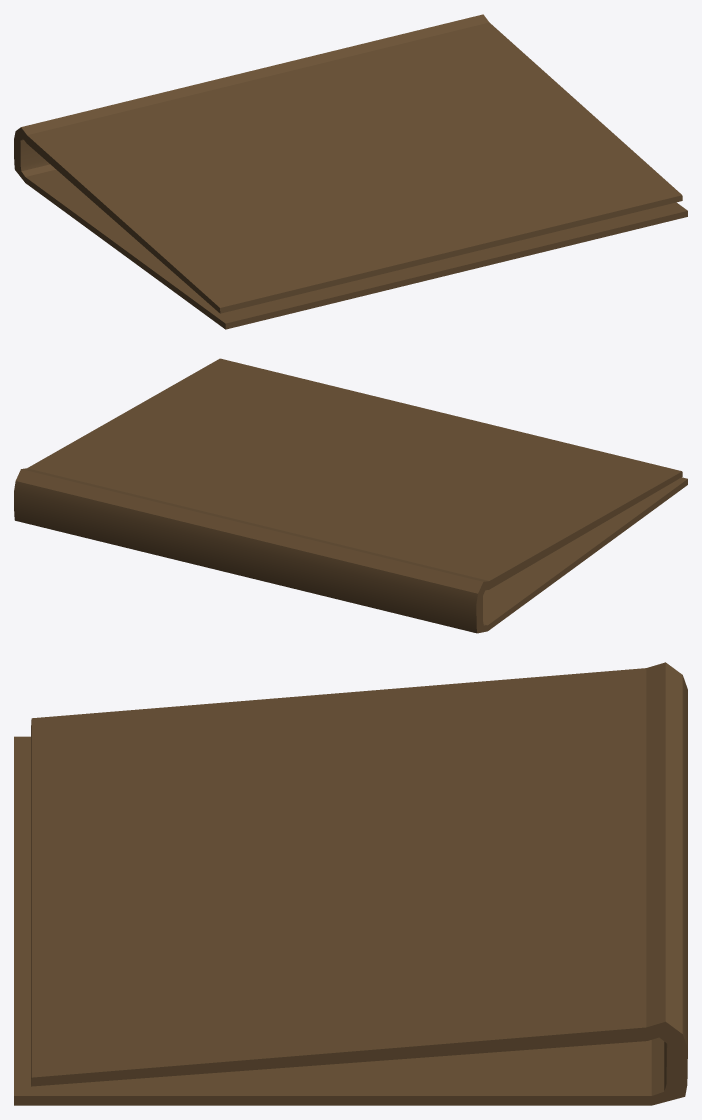
File: carpeta.fbx
The picture shows the model from 3 angles, top to bottom: view 1: azimuth 30°, elevation 25°; view 2: azimuth 150°, elevation 25°; view 3: azimuth 270°, elevation 25°; orthographic projection. The views are drawn at different scales.
Visible parts, largest first — view 1: Carpeta; view 2: Carpeta; view 3: Carpeta.
Boxes of the visible parts, x1,y1,x2,y2 form: Carpeta: (14, 14, 687, 329); Carpeta: (14, 358, 687, 633); Carpeta: (14, 662, 687, 1105).
Bounding box in the file's own units: 200 × 21.79 × 159.
